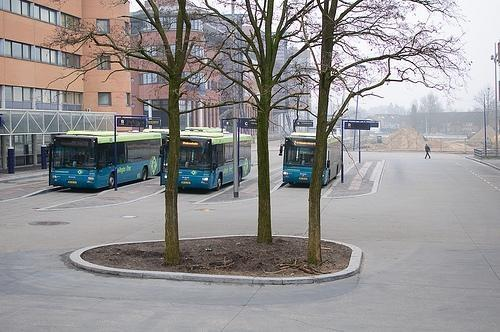bus: (41, 128, 162, 190), (280, 134, 342, 188), (178, 133, 234, 189), (240, 136, 251, 178)
